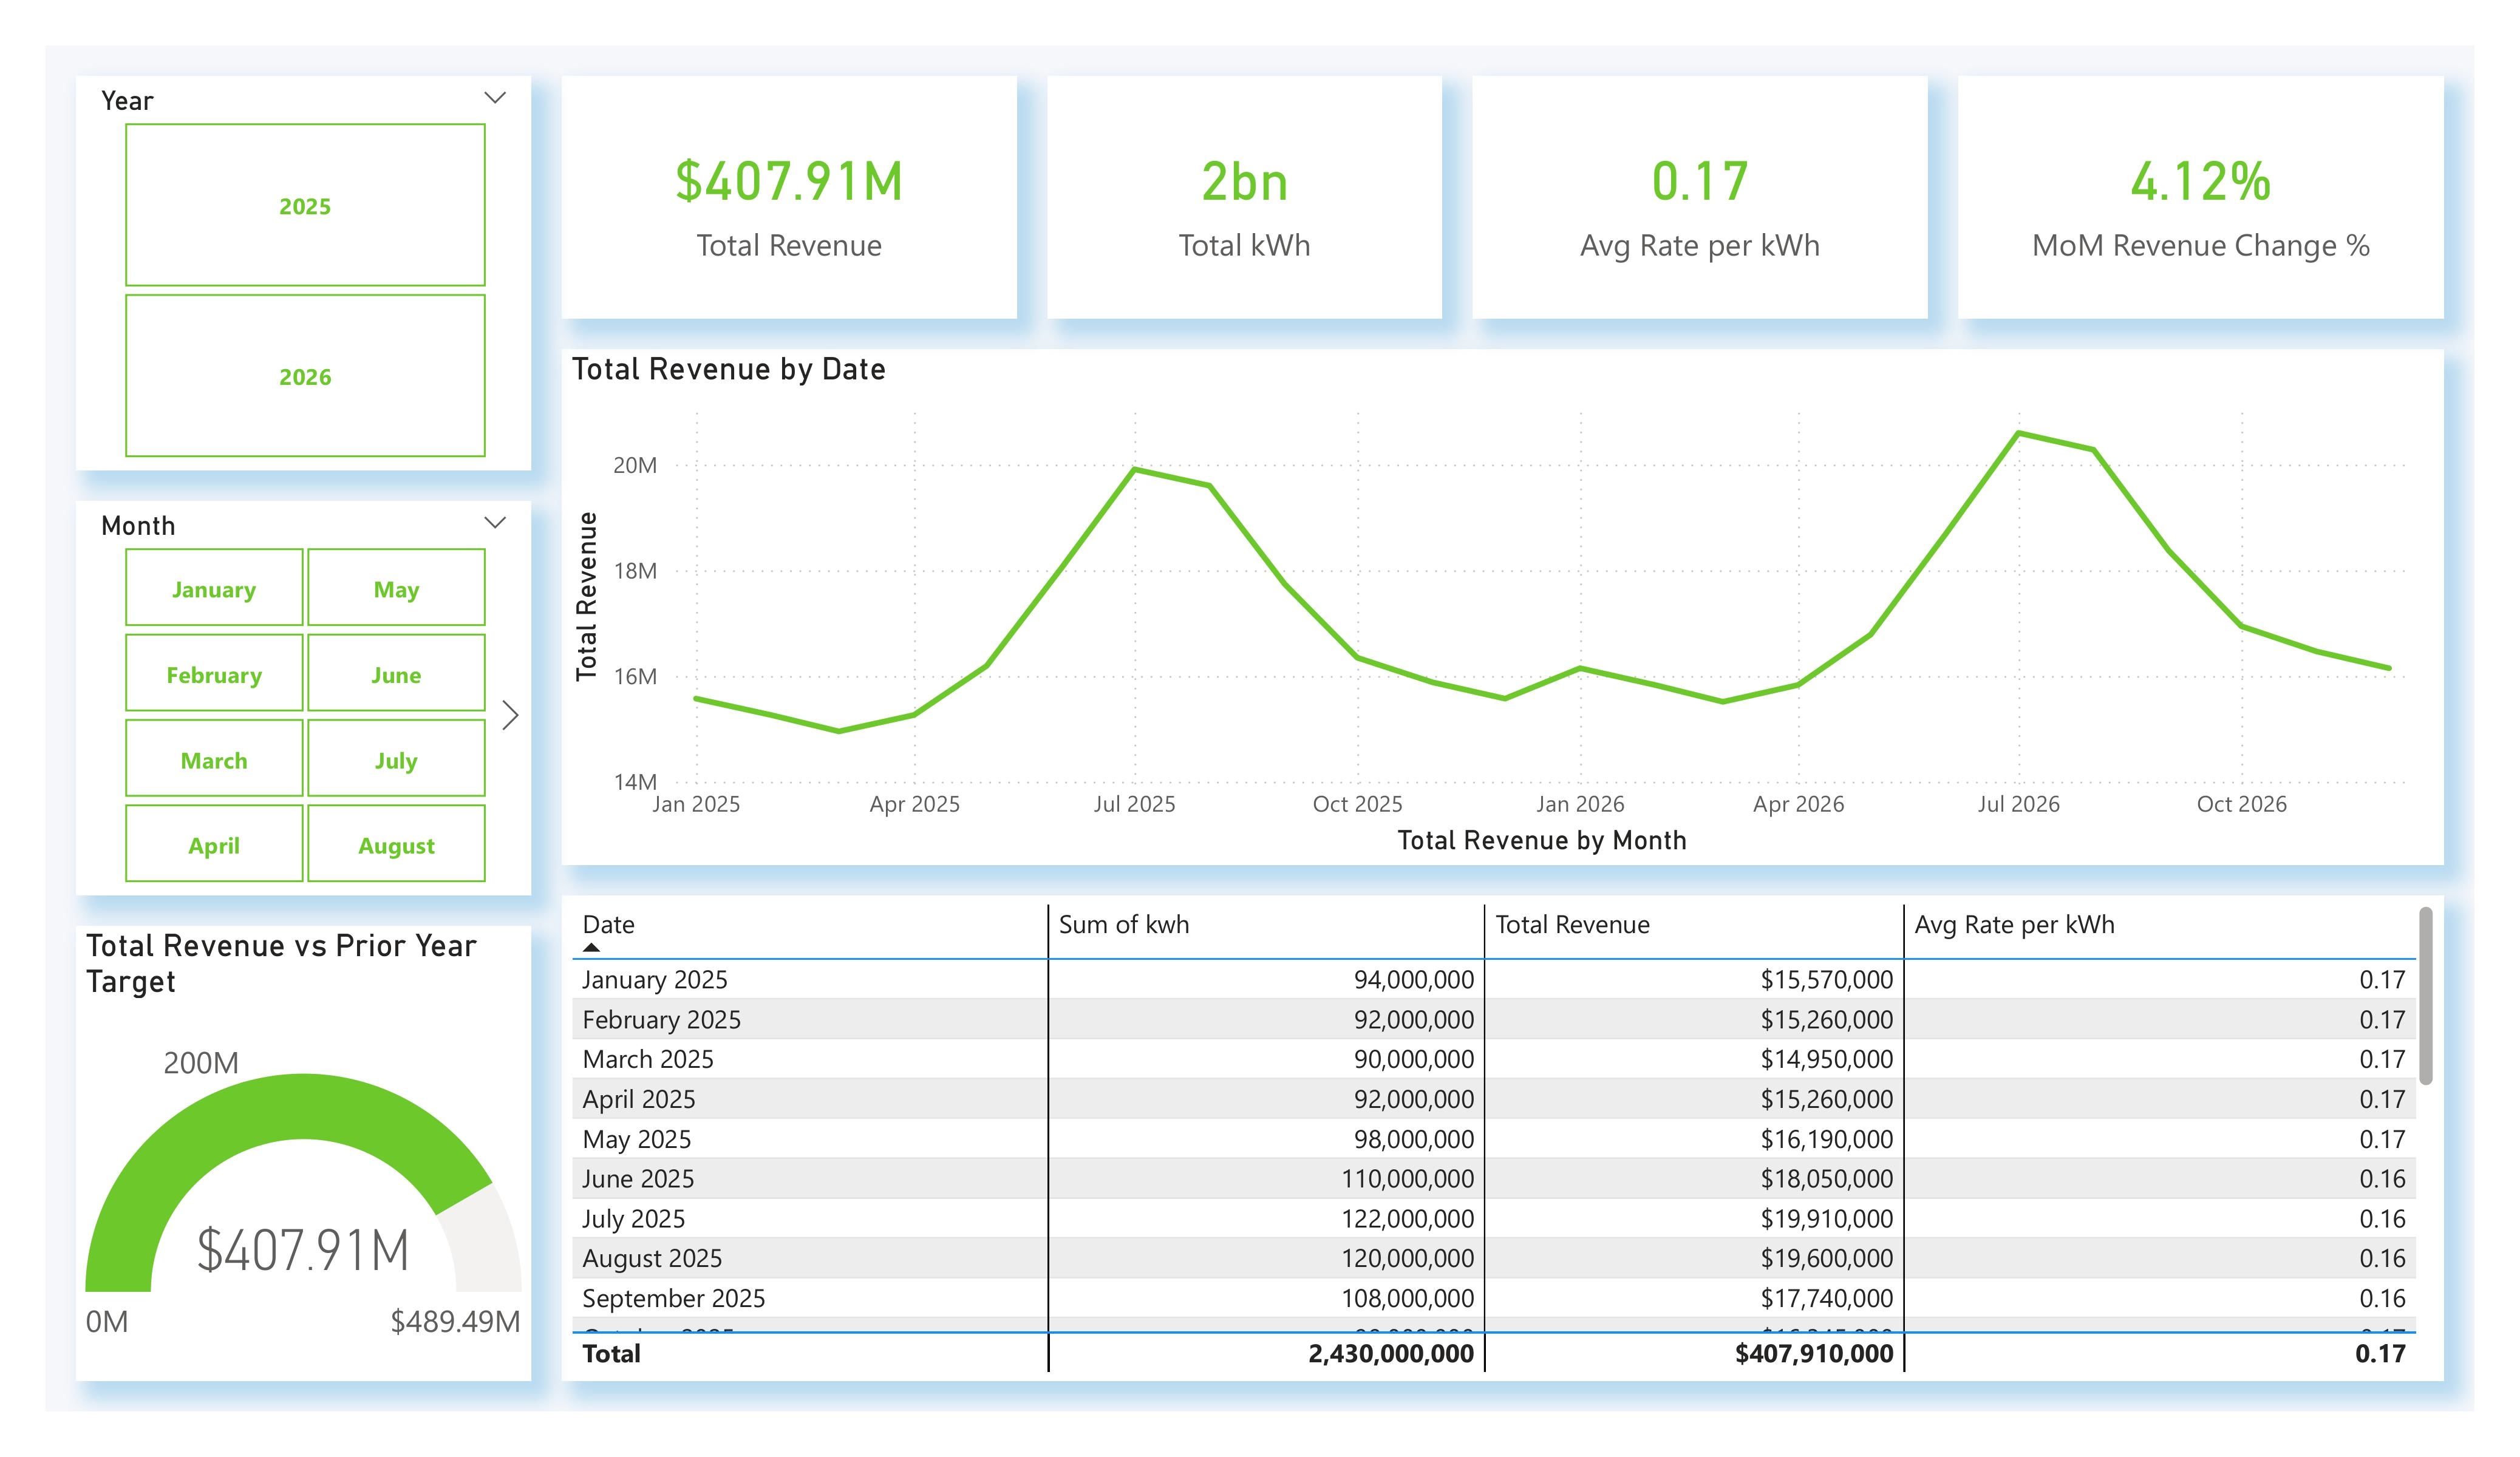

Layout of this report page (visuals, bound fields, positions):
{"tool":"powerbi","page":{"name":"Revenue","canvas":[1280,720],"ordinal":0},"visuals":[{"type":"lineChart","fields":{"Category":["DateTable.Date"],"Y":["DateTable.Total Revenue"]},"box":[272,160,992,272],"z":0},{"type":"card","fields":{"Values":["DateTable.Total Revenue"]},"box":[272,16,240,128],"z":1000},{"type":"card","fields":{"Values":["DateTable.Total kWh"]},"box":[528,16,208,128],"z":2000},{"type":"card","fields":{"Values":["DateTable.Avg Rate per kWh"]},"box":[752,16,240,128],"z":3000},{"type":"card","fields":{"Values":["DateTable.MoM Revenue Change %"]},"box":[1008,16,256,128],"z":4000},{"type":"tableEx","fields":{"Values":["DateTable.Date","Sum(revenue_monthly.kwh)","DateTable.Total Revenue","DateTable.Avg Rate per kWh"]},"box":[272,448,992,256],"z":5000},{"type":"slicer","fields":{"Values":["DateTable.Year"]},"box":[16,16,240,208],"z":6000},{"type":"slicer","fields":{"Values":["DateTable.Month"]},"box":[16,240,240,208],"z":7000},{"type":"gauge","title":"Total Revenue vs Prior Year Target","fields":{"Y":["DateTable.Total Revenue"],"TargetValue":["DateTable.Revenue Target Prior Year"],"MaxValue":["DateTable.Gauge Max"],"MinValue":["DateTable.Min Gauge"]},"box":[16,464,240,240],"z":8000}]}

Visuals, with their boxes in screenshot pixels (x1, y1, x2, y2):
lineChart - DateTable.Date x DateTable.Total Revenue: box=[562, 349, 2444, 865]
card - DateTable.Total Revenue: box=[562, 76, 1017, 319]
card - DateTable.Total kWh: box=[1047, 76, 1442, 319]
card - DateTable.Avg Rate per kWh: box=[1473, 76, 1928, 319]
card - DateTable.MoM Revenue Change %: box=[1958, 76, 2444, 319]
tableEx - DateTable.Date x Sum(revenue_monthly.kwh): box=[562, 895, 2444, 1381]
slicer - DateTable.Year: box=[76, 76, 531, 470]
slicer - DateTable.Month: box=[76, 501, 531, 895]
"Total Revenue vs Prior Year Target" gauge: box=[76, 926, 531, 1381]
